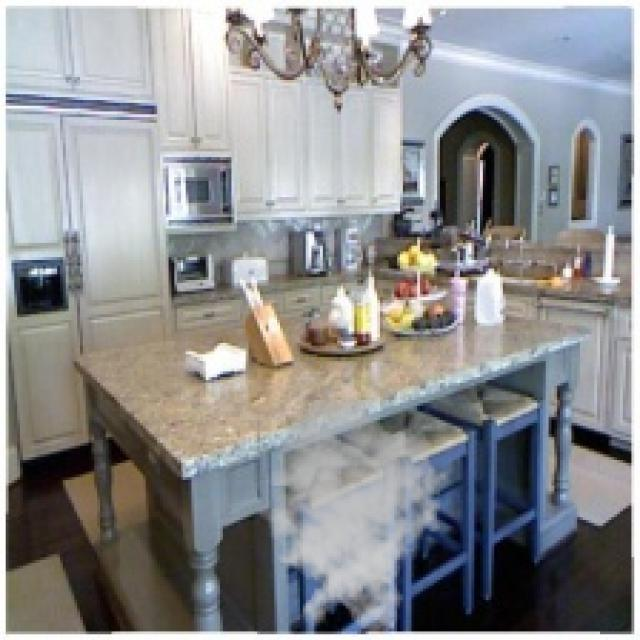Smoke: (246, 394, 454, 637)
